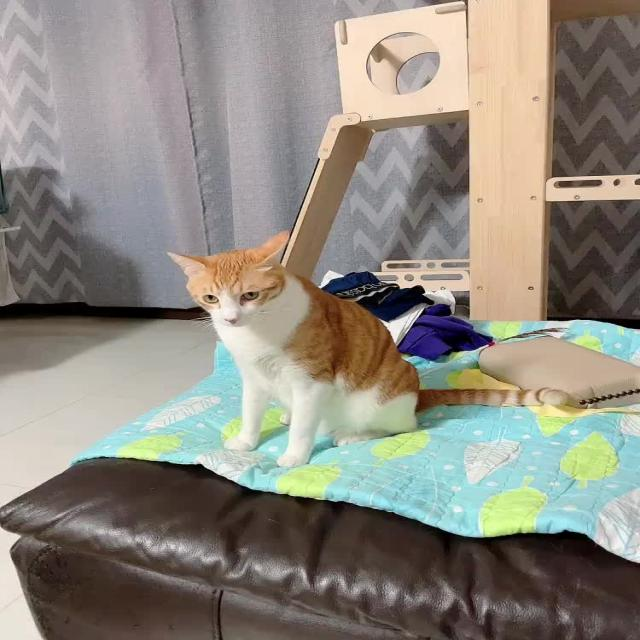cat: (161, 230, 575, 467)
